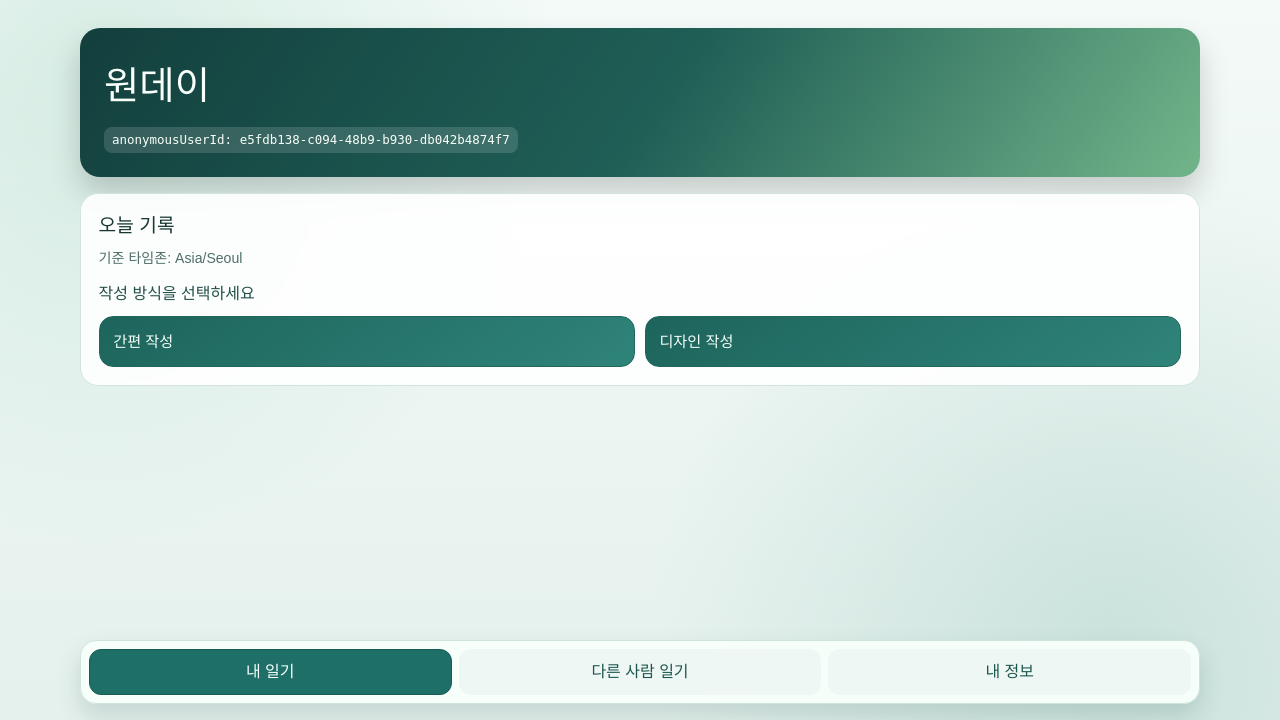
App integration › saves today entry and persists it in localStorage
Click the button "간편 작성": (143, 341) [99, 316, 635, 367]
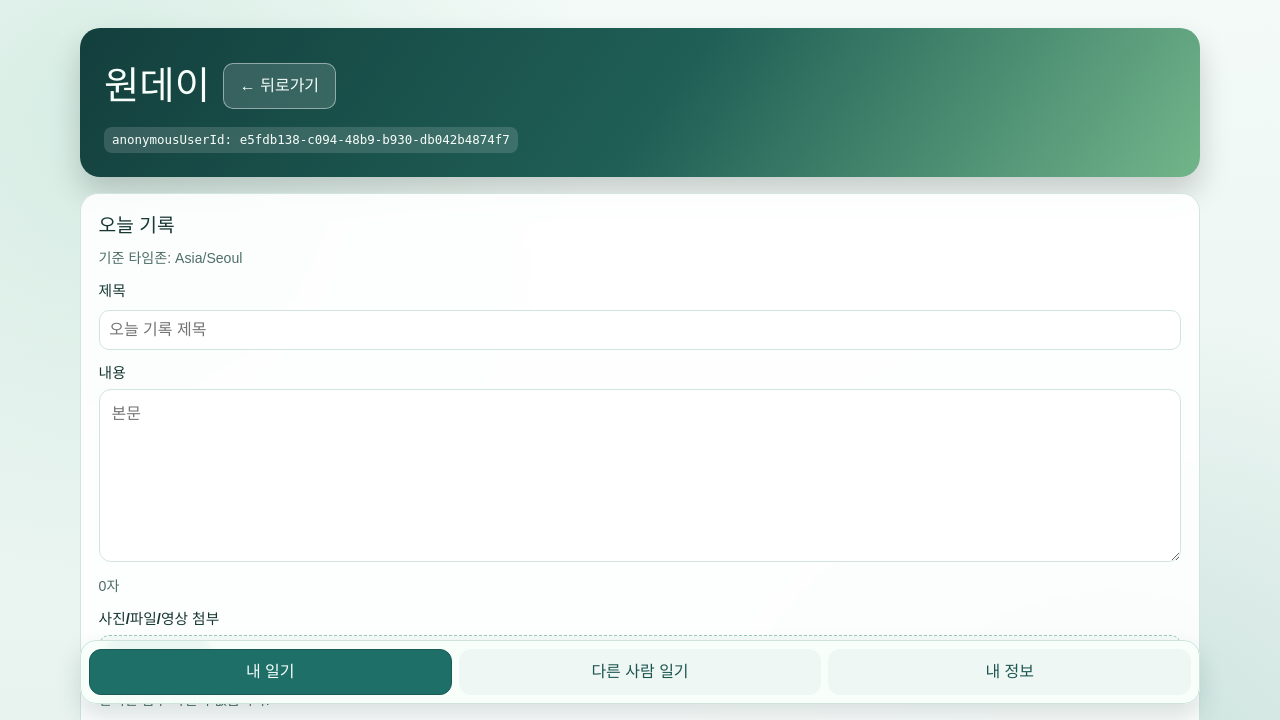
In the text box labelled "내용": (640, 475) [99, 389, 1181, 562], type "오늘은 집중해서 작업 계획을 끝까지 완료했다."
(page scrolled)
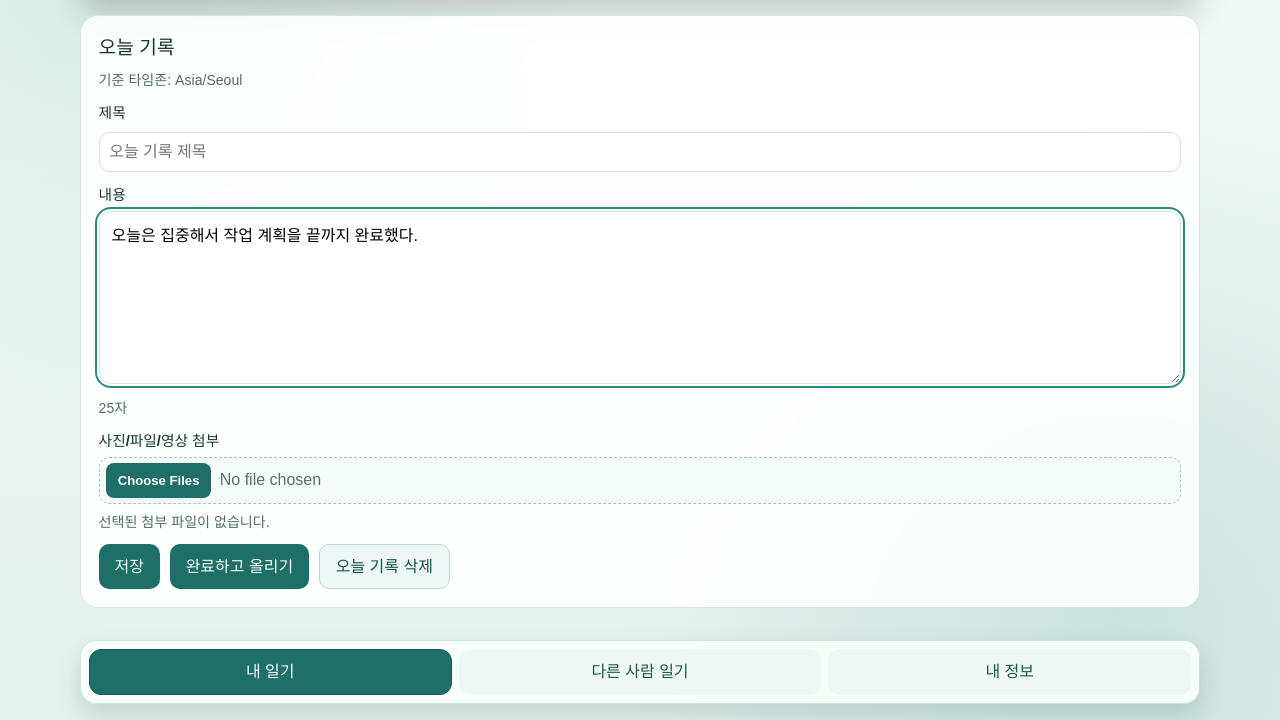
Click the button "저장": (129, 566) [99, 544, 160, 590]
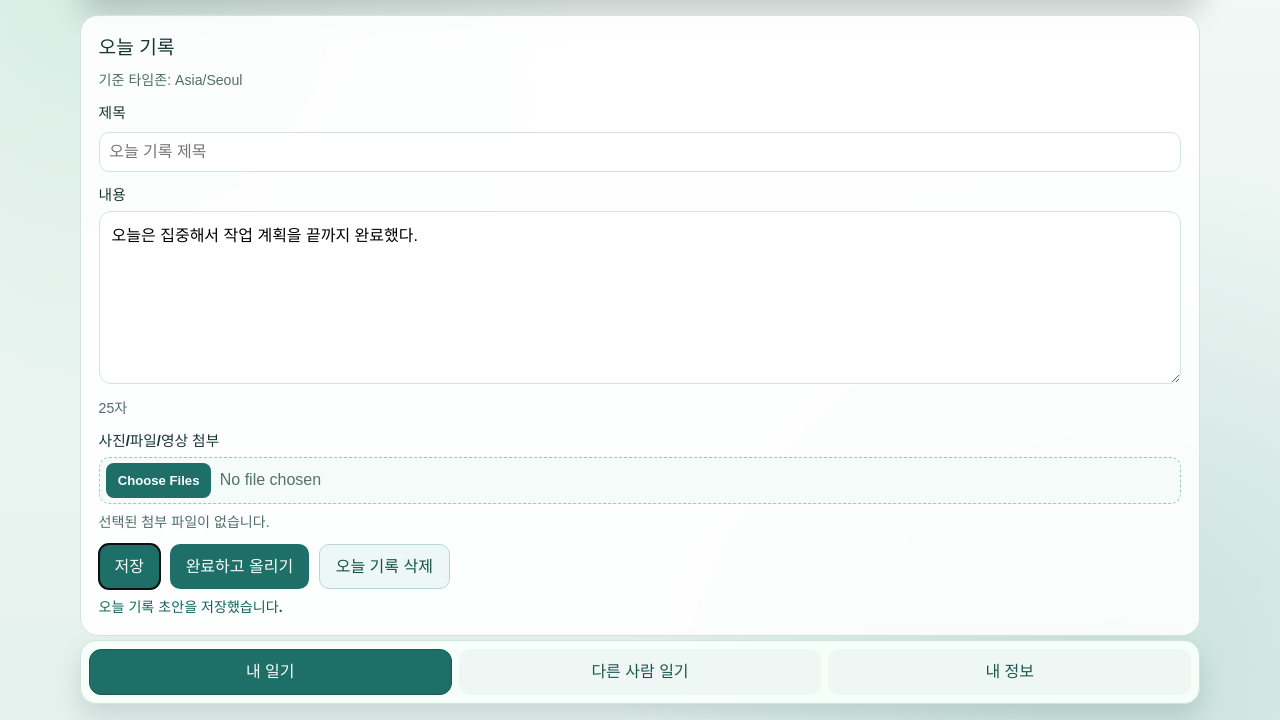
Expected: the text "오늘 기록 초안을 저장했습니다." is shown, [99, 600, 283, 616]
